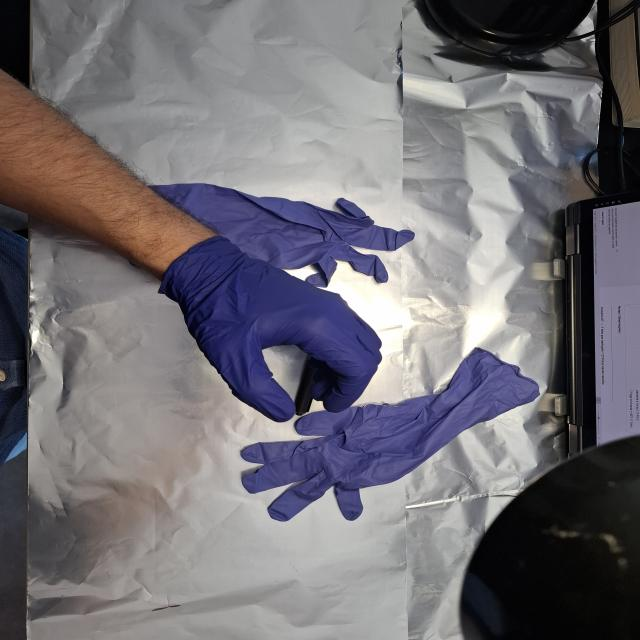glove_on: (166, 237, 387, 423)
